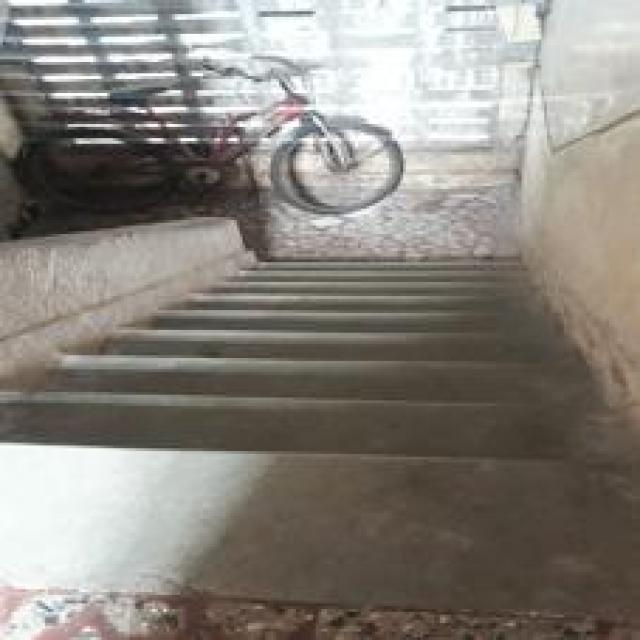downstair: (86, 297, 489, 534)
